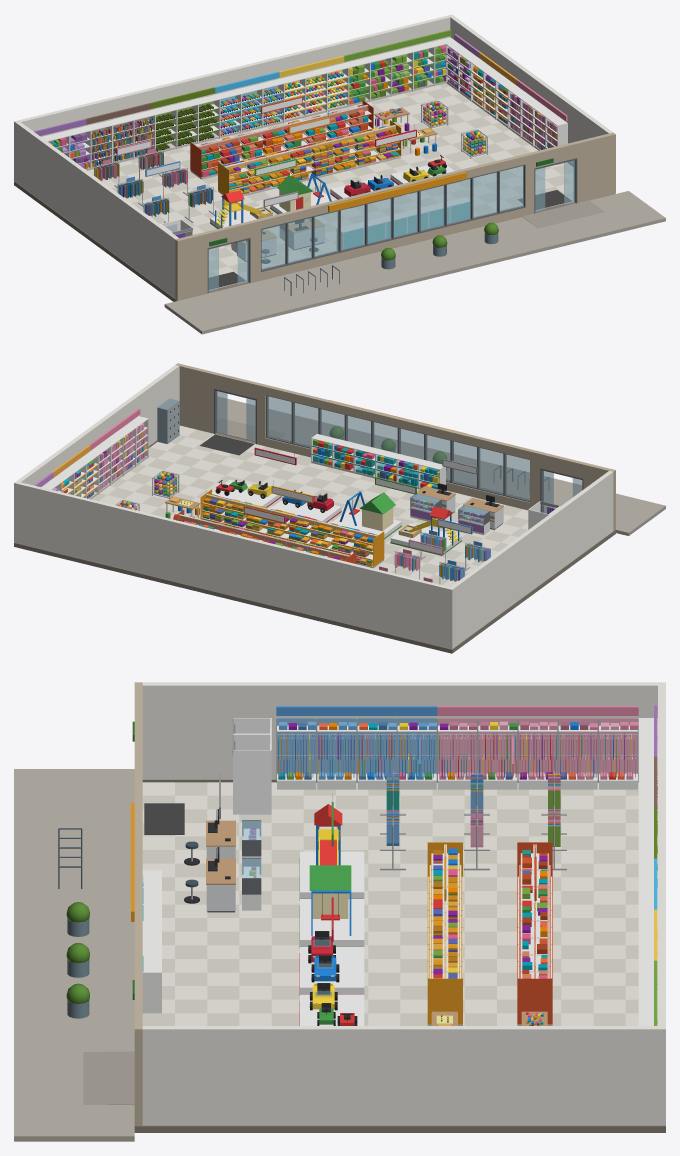
Rendered from dytiachyi_svit.dae.
3 views of the same model, one above another, from view 1: azimuth 30°, elevation 25°; view 2: azimuth 150°, elevation 25°; view 3: azimuth 270°, elevation 25° (orthographic). The views are drawn at different scales.
Visible parts, largest first — view 1: Фасад з вітринами, Підлога, Стіни, Майданчик перед входом, Підвісні навігаційні таблички, 5.2 Подіум — Обладнання для ігрових майданчиків, Вивіска «Дитячий світ», 5.1 Подіум — Обладнання для ігрових майданчиків, 1.15 Стелаж-гірка — М'ячі, 1.9 Стелаж-гірка — Моделі іграшкової воєнної техніки, 1.10 Стелаж-гірка — Транспорт, 1.18 Стелаж-гірка — Іграшки для спорту (+47 smaller); view 2: Стіни, Фасад з вітринами, Підлога, Майданчик перед входом, Підвісні навігаційні таблички, 5.2 Подіум — Обладнання для ігрових майданчиків, 5.1 Подіум — Обладнання для ігрових майданчиків, 5.4 Подіум — Електромобілі, педальні машини, 5.3 Подіум — Електромобілі, педальні машини, 4.9 Острівна гондола — Розвиваючі дедуктивні ігри, 12.1 Шафа камери схову, 1.26 Стелаж-гірка — Ляльки (+29 smaller); view 3: Підлога, Стіни, Майданчик перед входом, 5.2 Подіум — Обладнання для ігрових майданчиків, Фасад з вітринами, 2.8 Пристінна система для одягу — Одяг для хлопчиків, 2.1 Пристінна система для одягу — Одяг для дівчат, 2.9 Пристінна система для одягу — Одяг для хлопчиків, 2.2 Пристінна система для одягу — Одяг для дівчат, 2.6 Пристінна система для одягу — Одяг для хлопчиків, 5.3 Подіум — Електромобілі, педальні машини, 2.5 Пристінна система для одягу — Одяг для дівчат (+25 smaller).
Boxes of the visible parts, box(x1,y1,x2,y2) form: Фасад з вітринами: box(175, 132, 615, 300); Підлога: box(14, 83, 614, 301); Стіни: box(14, 14, 612, 298); Майданчик перед входом: box(164, 191, 665, 334); Підвісні навігаційні таблички: box(116, 91, 416, 207); 5.2 Подіум — Обладнання для ігрових майданчиків: box(270, 173, 341, 216); Вивіска «Дитячий світ»: box(209, 158, 553, 246); 5.1 Подіум — Обладнання для ігрових майданчиків: box(210, 190, 279, 229); 1.15 Стелаж-гірка — М'ячі: box(322, 56, 348, 112); 1.9 Стелаж-гірка — Моделі іграшкової воєнної техніки: box(193, 87, 219, 143); 1.10 Стелаж-гірка — Транспорт: box(214, 82, 241, 138); 1.18 Стелаж-гірка — Іграшки для спорту: box(386, 40, 413, 96); Стіни: box(14, 365, 613, 648); Фасад з вітринами: box(175, 363, 615, 530); Підлога: box(14, 425, 615, 653); Майданчик перед входом: box(217, 396, 665, 535); Підвісні навігаційні таблички: box(243, 447, 477, 555); 5.2 Подіум — Обладнання для ігрових майданчиків: box(330, 491, 401, 539); 5.1 Подіум — Обладнання для ігрових майданчиків: box(390, 506, 461, 555); 5.4 Подіум — Електромобілі, педальні машини: box(212, 479, 281, 507); 5.3 Подіум — Електромобілі, педальні машини: box(270, 490, 341, 522); 4.9 Острівна гондола — Розвиваючі дедуктивні ігри: box(352, 530, 384, 568); 12.1 Шафа камери схову: box(157, 398, 179, 443); 1.26 Стелаж-гірка — Ляльки: box(89, 436, 111, 493); Підлога: box(134, 782, 665, 1132); Стіни: box(142, 682, 665, 1125); Майданчик перед входом: box(14, 769, 134, 1141); 5.2 Подіум — Обладнання для ігрових майданчиків: box(299, 865, 364, 947); Фасад з вітринами: box(134, 682, 142, 1125); 2.8 Пристінна система для одягу — Одяг для хлопчиків: box(316, 706, 356, 789); 2.1 Пристінна система для одягу — Одяг для дівчат: box(598, 706, 638, 789); 2.9 Пристінна система для одягу — Одяг для хлопчиків: box(276, 706, 316, 789); 2.2 Пристінна система для одягу — Одяг для дівчат: box(558, 706, 598, 789); 2.6 Пристінна система для одягу — Одяг для хлопчиків: box(397, 706, 437, 789); 5.3 Подіум — Електромобілі, педальні машини: box(299, 931, 364, 995); 2.5 Пристінна система для одягу — Одяг для дівчат: box(437, 706, 477, 789).
Bounding box in the file's own units: 27 × 20.25 × 3.55.
